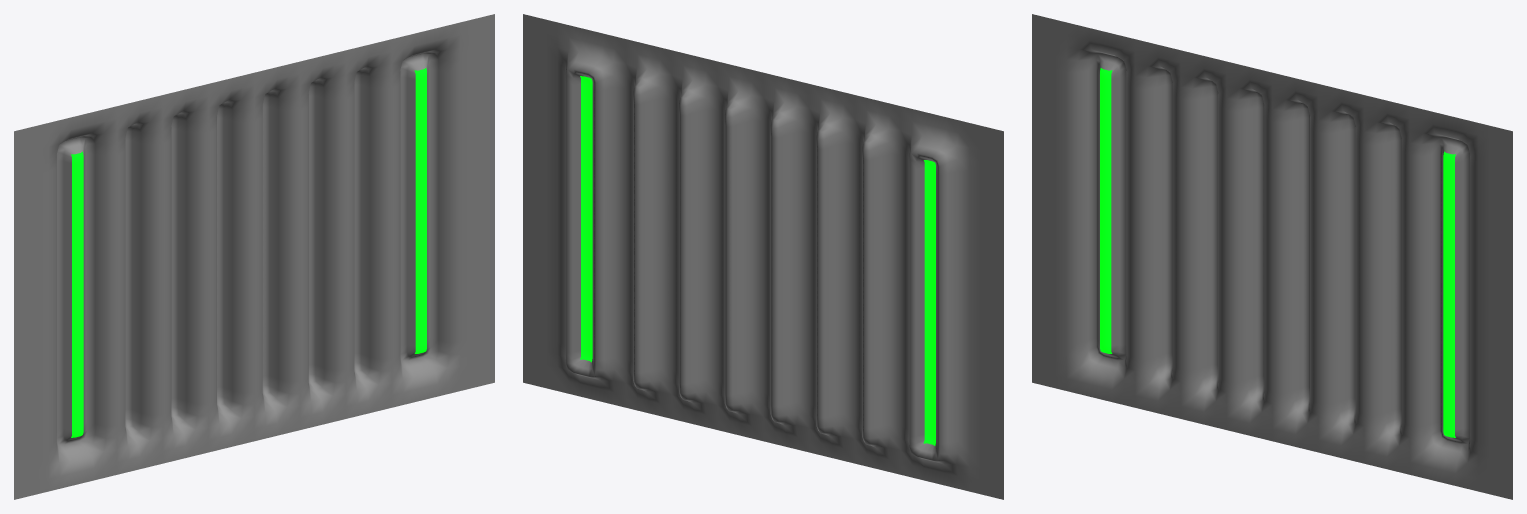
Rendered from WallTile9.fbx.
The picture shows the model from 3 angles, left to right: view 1: azimuth 30°, elevation 25°; view 2: azimuth 150°, elevation 25°; view 3: azimuth 330°, elevation 25°; orthographic projection.
Parts seen in each view (by area): view 1: Plane011; view 2: Plane011; view 3: Plane011.
Part boxes in pixels (bbox=[...]): Plane011: bbox=[14, 14, 494, 499]; Plane011: bbox=[523, 14, 1003, 499]; Plane011: bbox=[1032, 14, 1512, 499].
Size of the model in its own units: 938 by 687 by 45.75.
